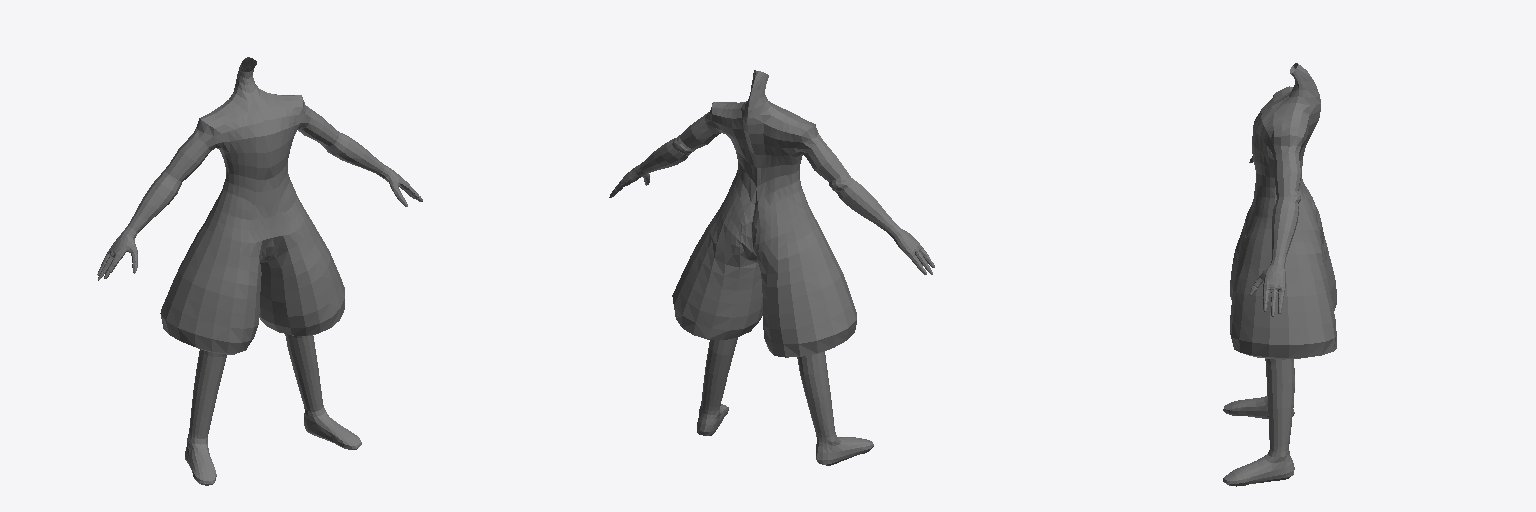
3 renders of one model, left to right at view 1: azimuth 30°, elevation 25°; view 2: azimuth 150°, elevation 25°; view 3: azimuth 270°, elevation 25°, orthographic.
Parts seen in each view (by area): view 1: polySurface21, polySurface22 polySurface15 base_Mesh; view 2: polySurface21, polySurface22 polySurface15 base_Mesh; view 3: polySurface21, polySurface22 polySurface15 base_Mesh.
Boxes of the visible parts, <box> form: polySurface21: <box>97,57,422,354</box>; polySurface22 polySurface15 base_Mesh: <box>185,334,361,485</box>; polySurface21: <box>609,70,934,357</box>; polySurface22 polySurface15 base_Mesh: <box>697,338,873,465</box>; polySurface21: <box>1230,63,1336,359</box>; polySurface22 polySurface15 base_Mesh: <box>1223,359,1294,486</box>.
Size of the model in its own units: 135 by 153 by 41.48.